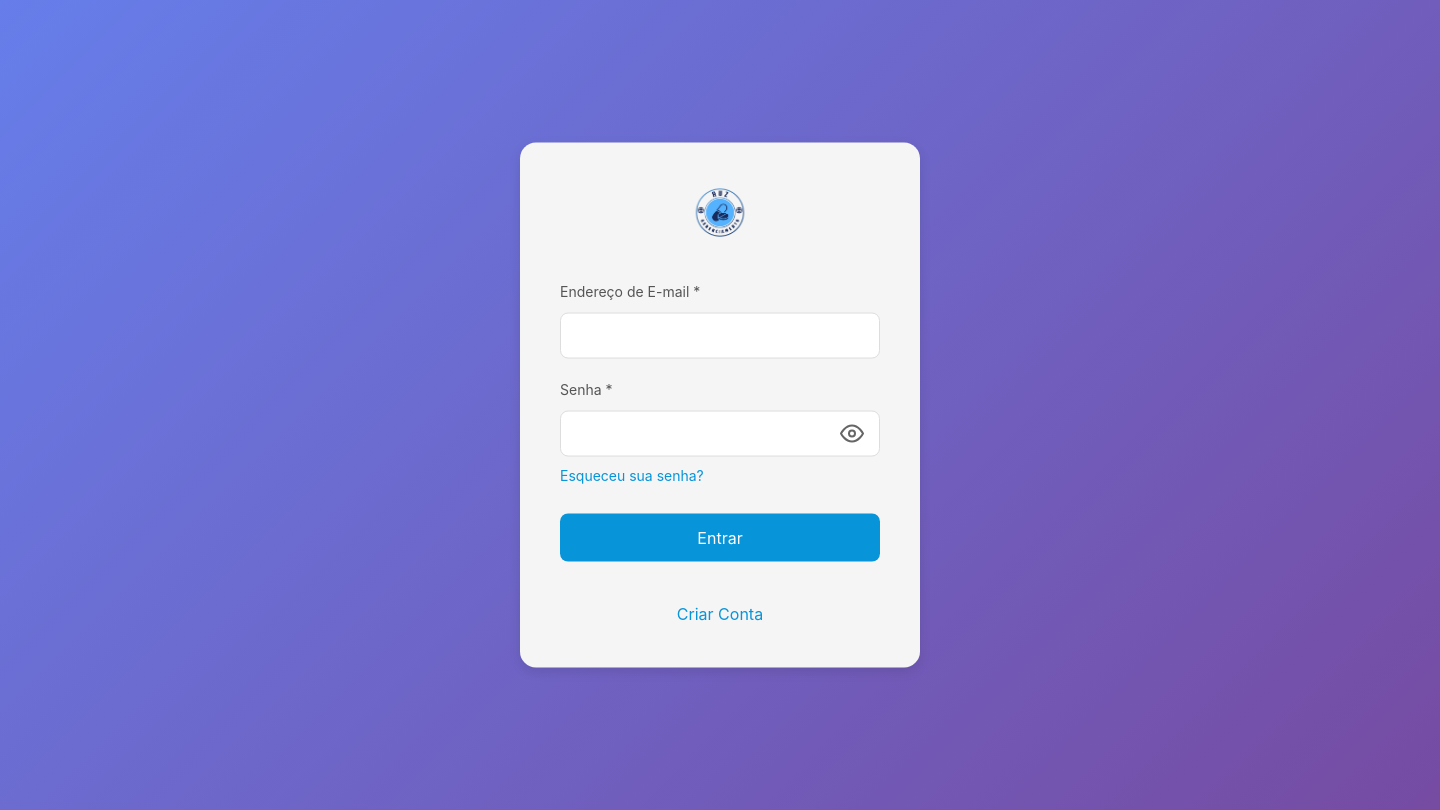
Test: Login Component › opens and closes forgot password modal
The width and height of the screenshot is (1440, 810).
Click the button "Esqueceu sua senha?": (632, 475) [560,467,704,484]
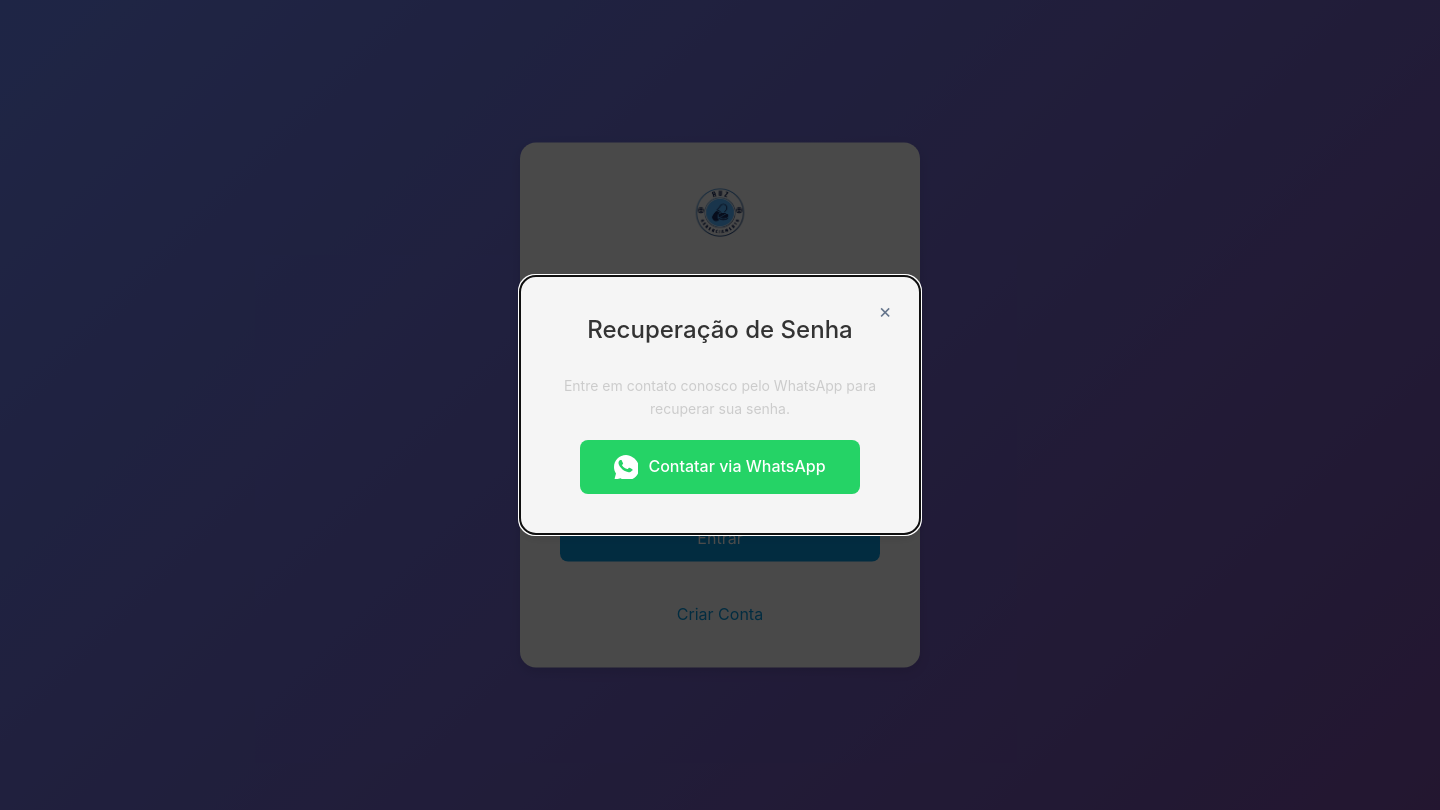
Expected: the heading "Recuperação de Senha" is shown, [587,315,853,344]
Expected: the text "Entre em contato conosco" is shown, [564,377,876,417]
Click the button named "fechar modal de recuperação de senha": (885, 311) [870,296,900,326]
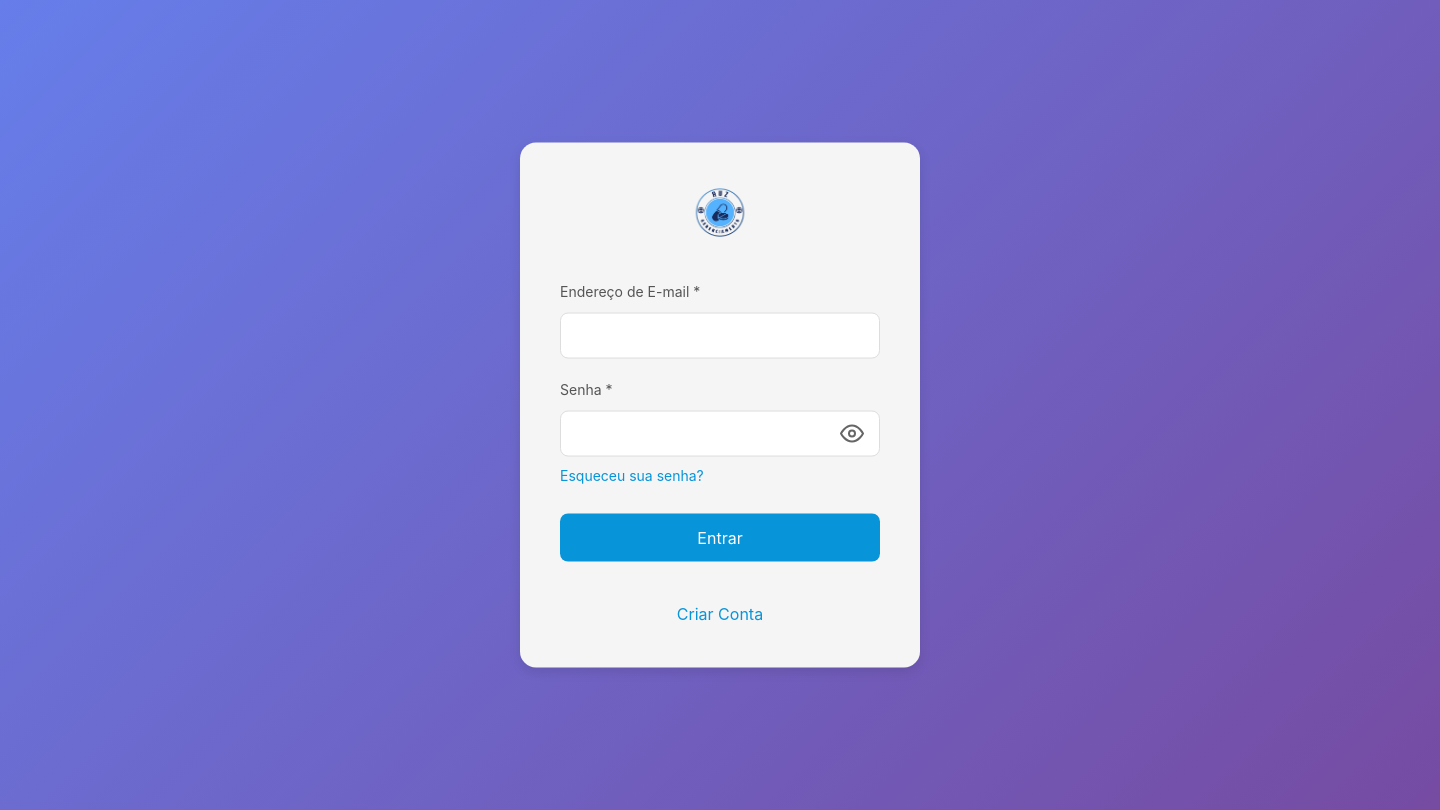
Expected: the heading "Recuperação de Senha" is gone
